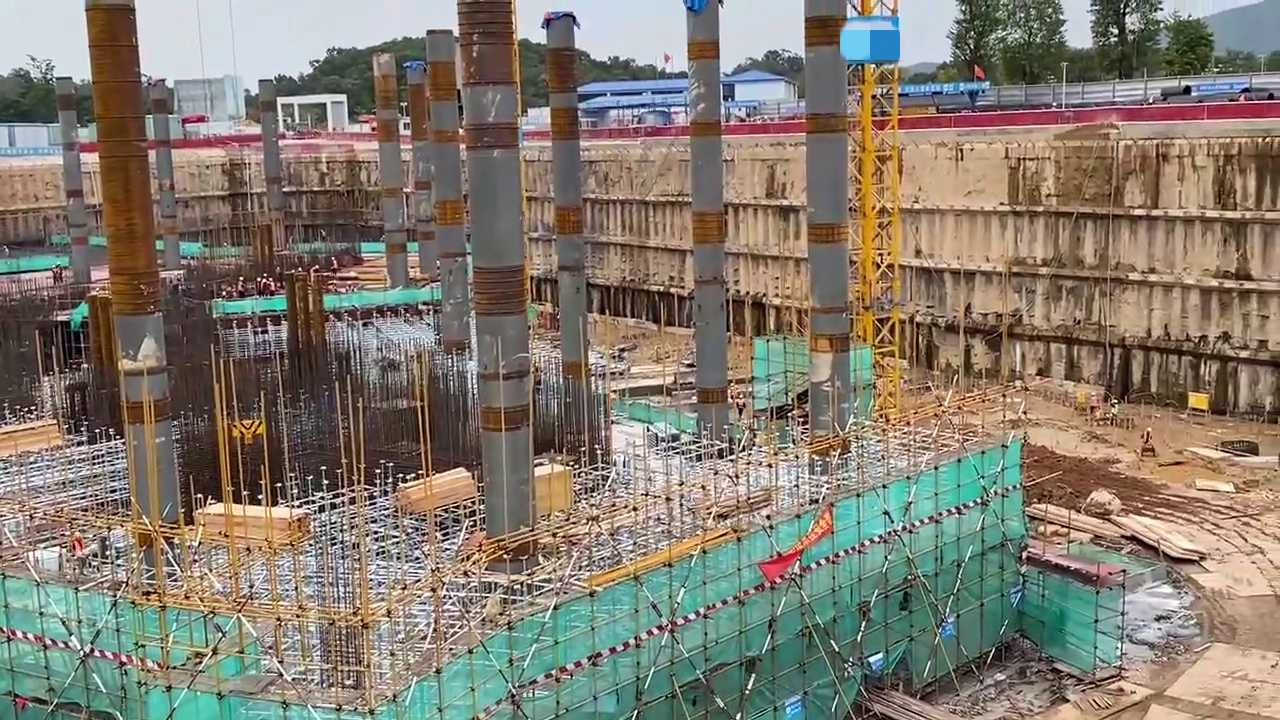board: (1117, 513, 1203, 557)
hook: (231, 414, 265, 441)
wood: (196, 498, 310, 538), (1, 411, 79, 449), (400, 467, 480, 503)
